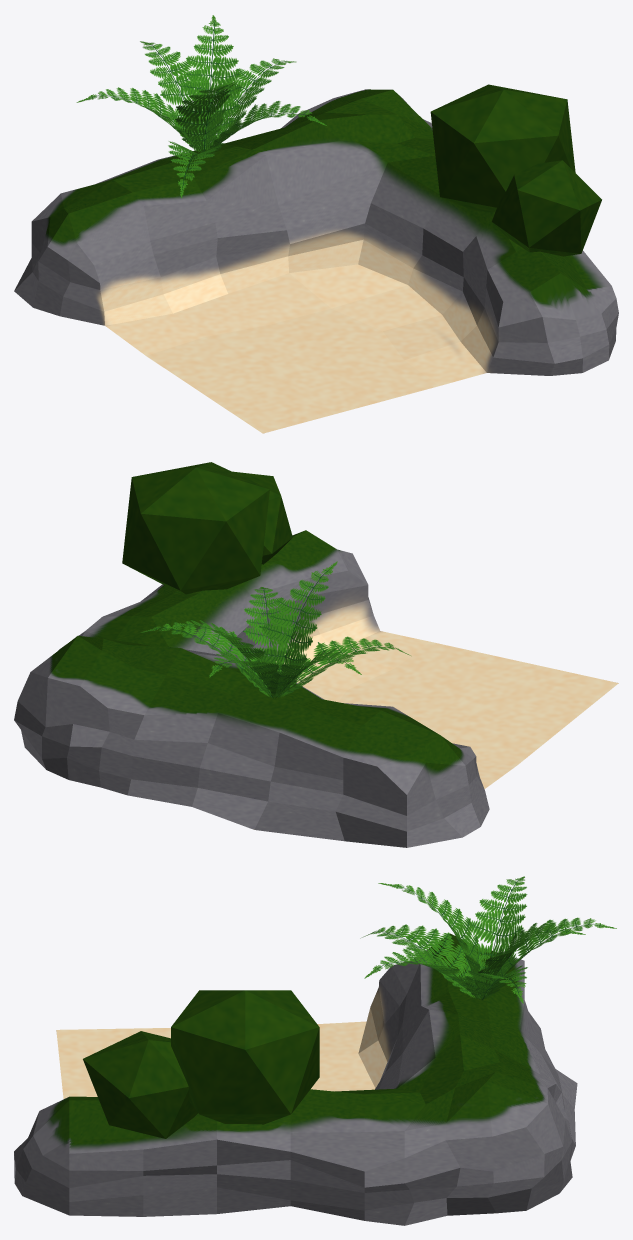
The model's file is ground.gltf.
The picture shows the model from 3 angles, top to bottom: view 1: azimuth 30°, elevation 25°; view 2: azimuth 150°, elevation 25°; view 3: azimuth 270°, elevation 25°; orthographic projection. The views are drawn at different scales.
Parts seen in each view (by area): view 1: Ground, Bush, Fern1, Fern2; view 2: Ground, Bush, Fern1, Fern2; view 3: Ground, Bush, Fern1, Fern2.
Boxes of the visible parts, x1,y1,x2,y2 form: Ground: (14,89,618,433); Bush: (430,84,601,256); Fern1: (76,41,326,197); Fern2: (175,15,242,153); Ground: (14,530,618,847); Bush: (122,462,292,594); Fern1: (140,587,410,698); Fern2: (165,561,337,696); Ground: (14,933,577,1225); Bush: (83,990,319,1138); Fern1: (360,876,616,1003); Fern2: (378,883,585,998).
Size of the model in its own units: 17.56 by 7.82 by 19.66.
3 materials, 3 textured.
